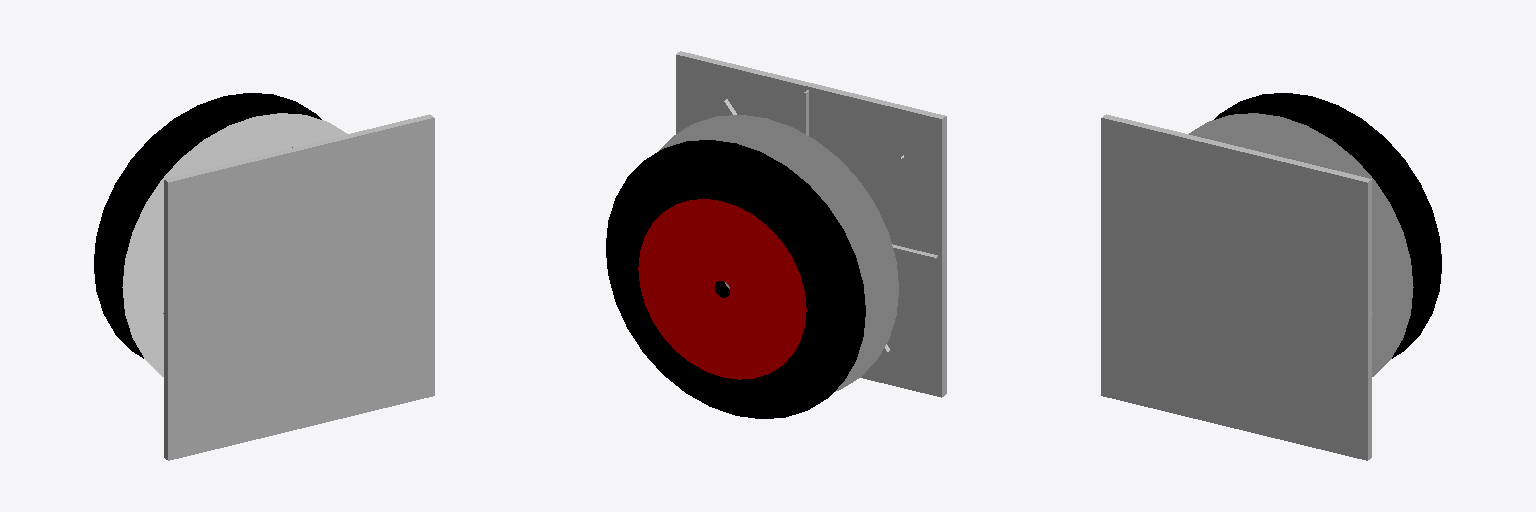
File: alvo2.obj
3 renders of one model, left to right at view 1: azimuth 30°, elevation 25°; view 2: azimuth 150°, elevation 25°; view 3: azimuth 330°, elevation 25°, orthographic.
Visible parts, largest first — view 1: Cube_Cube.001, CircleC1_Circle.005, Circle_Circle.001; view 2: Circle_Circle.001, Cube_Cube.001, Circle2_Circle.002, CircleC1_Circle.005, Cube.001_Cube; view 3: Cube_Cube.001, CircleC1_Circle.005, Circle_Circle.001.
Boxes of the visible parts, box(x1,y1,x2,y2) form: Cube_Cube.001: box(164, 114, 434, 460); CircleC1_Circle.005: box(122, 113, 346, 376); Circle_Circle.001: box(94, 93, 321, 358); Circle_Circle.001: box(606, 140, 865, 418); Cube_Cube.001: box(676, 51, 946, 397); Circle2_Circle.002: box(638, 199, 806, 379); CircleC1_Circle.005: box(658, 115, 898, 391); Cube.001_Cube: box(723, 90, 937, 352); Cube_Cube.001: box(1101, 114, 1371, 460); CircleC1_Circle.005: box(1189, 113, 1413, 376); Circle_Circle.001: box(1214, 93, 1441, 358).
Bounding box in the file's own units: 3.47 × 3.47 × 2.05.